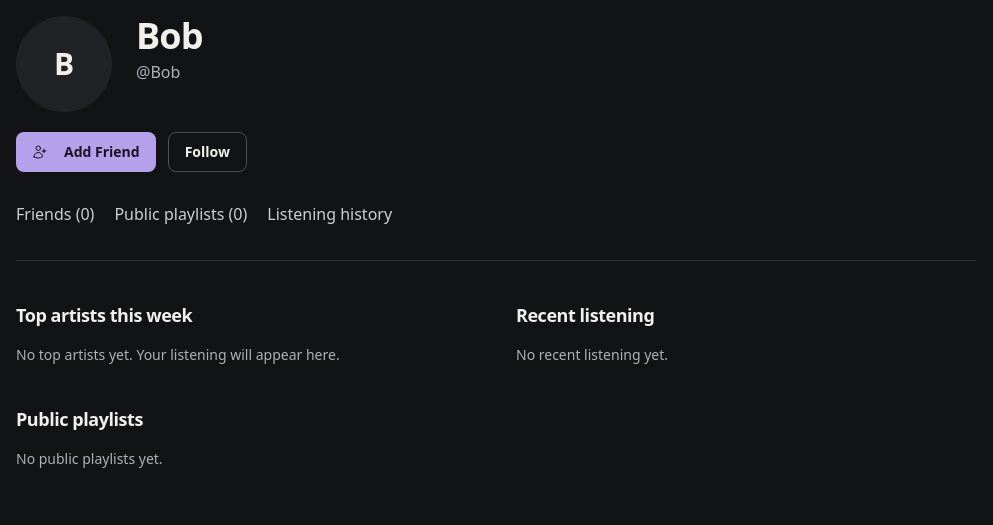
Test: profile friend controls › refreshes a current accepted snapshot after a send conflict without hiding the error
This screenshot has width=993, height=525.
Step 1. Click the button "Add Friend" → (86, 152), box [16, 132, 156, 172]
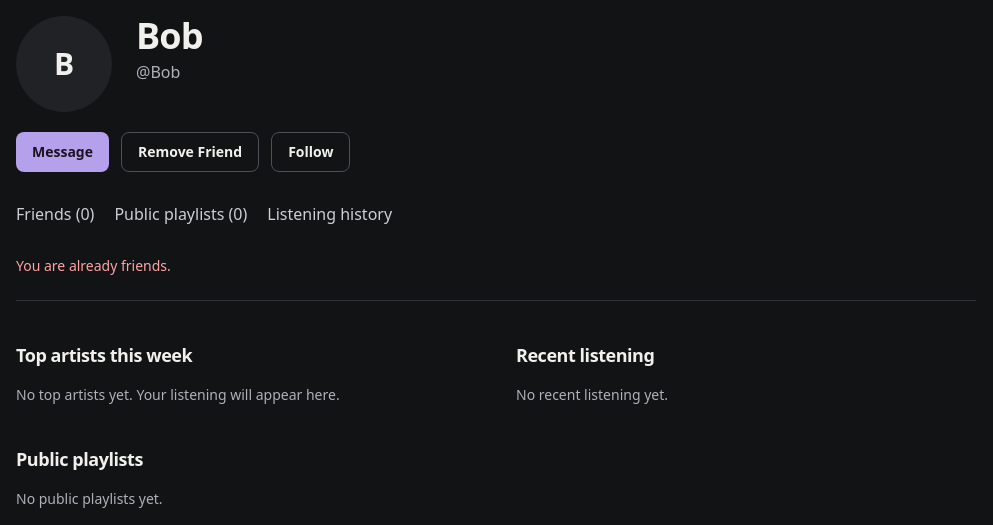
Expected: the button "Remove Friend" is shown, [121, 132, 259, 172]
Expected: the text "You are already friends." is shown, [16, 256, 171, 275]
Expected: the button "Add Friend" is gone
